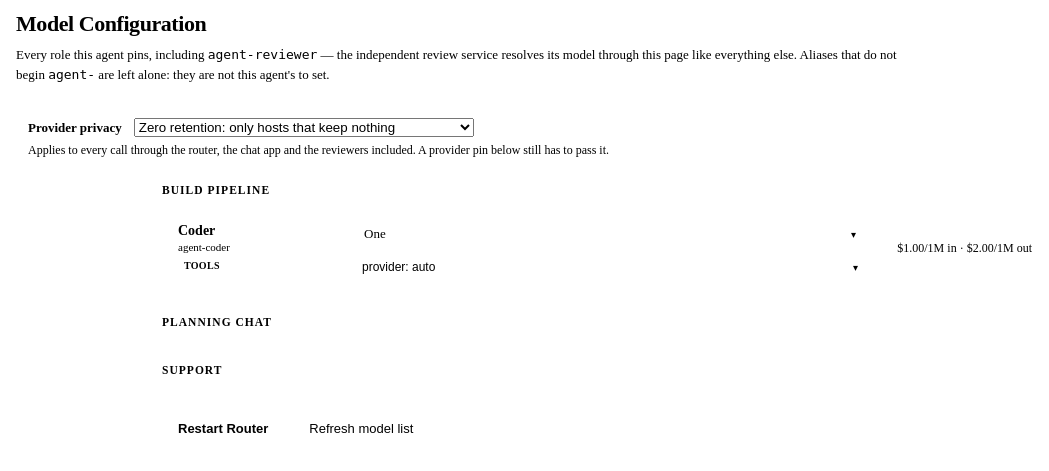
Test case: provider privacy › shows the router's rule and saves a change straight away, without the pins' Save bar
Select "No training: only hosts that neither store nor train on it" in the dropdown labelled "Provider privacy" at (304, 128), box [134, 118, 474, 137]
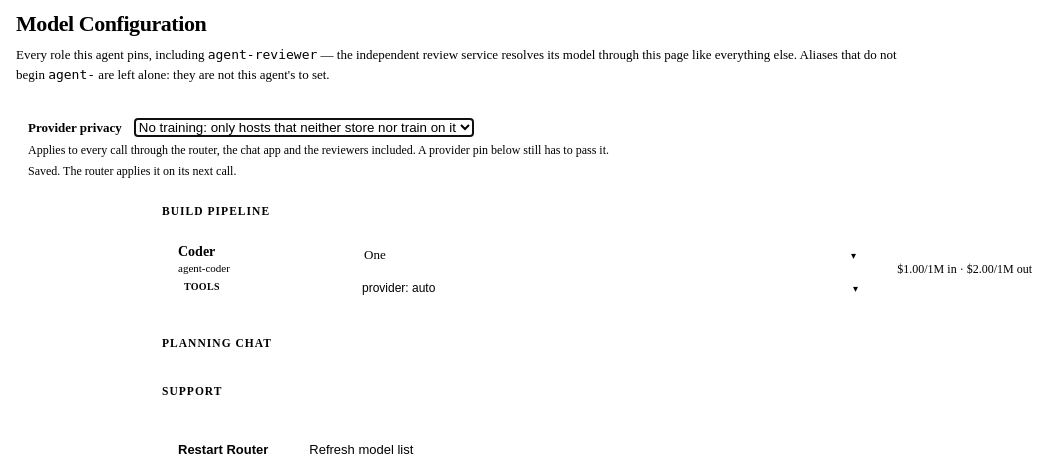
Result: the text "Saved. The router applies it on its next call." is shown at [28, 164, 236, 178]
